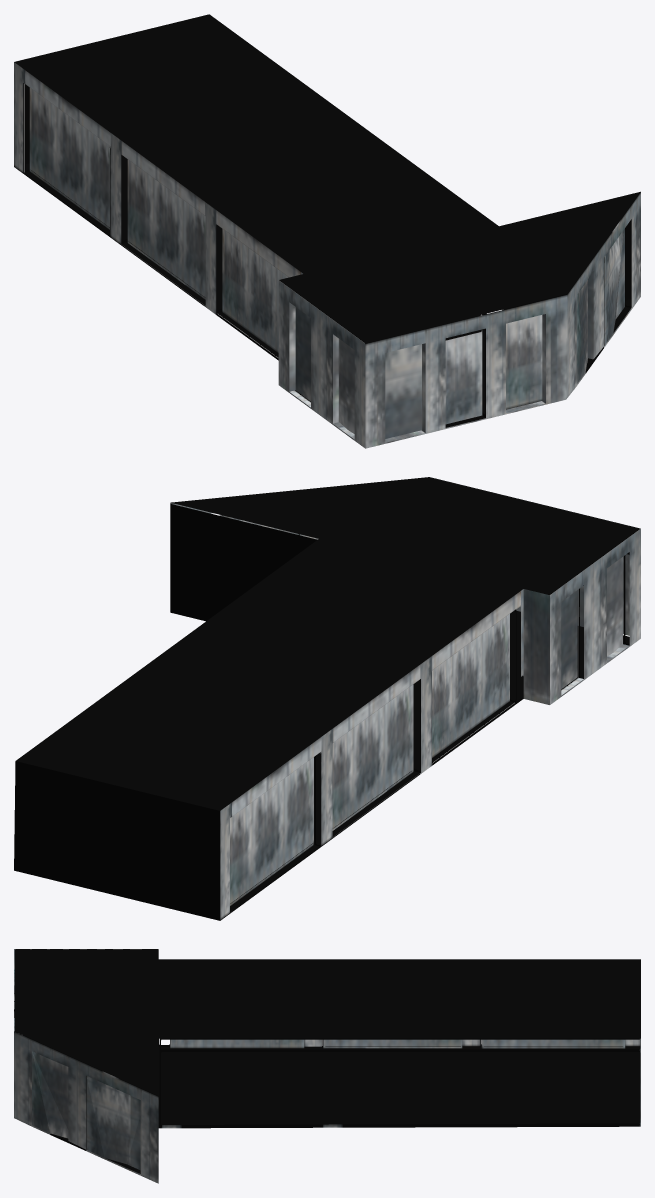
File: building_00.FBX
The picture shows the model from 3 angles, top to bottom: view 1: azimuth 30°, elevation 25°; view 2: azimuth 150°, elevation 25°; view 3: azimuth 270°, elevation 25°; orthographic projection. The views are drawn at different scales.
Parts seen in each view (by area): view 1: building_00; view 2: building_00; view 3: building_00.
Part boxes in pixels (x1,y1,x2,y2): building_00: (14,14,640,448); building_00: (14,477,640,920); building_00: (14,949,640,1183).
Size of the model in its own units: 28.9 by 8 by 52.
